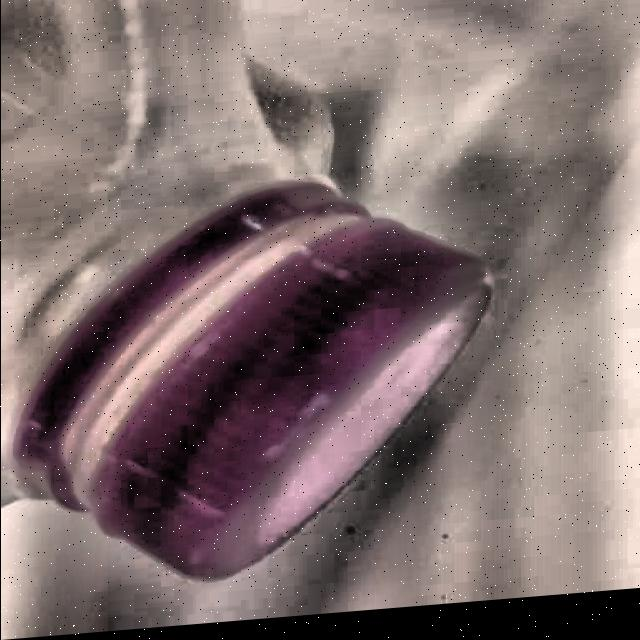plastic: (0, 0, 504, 601)
